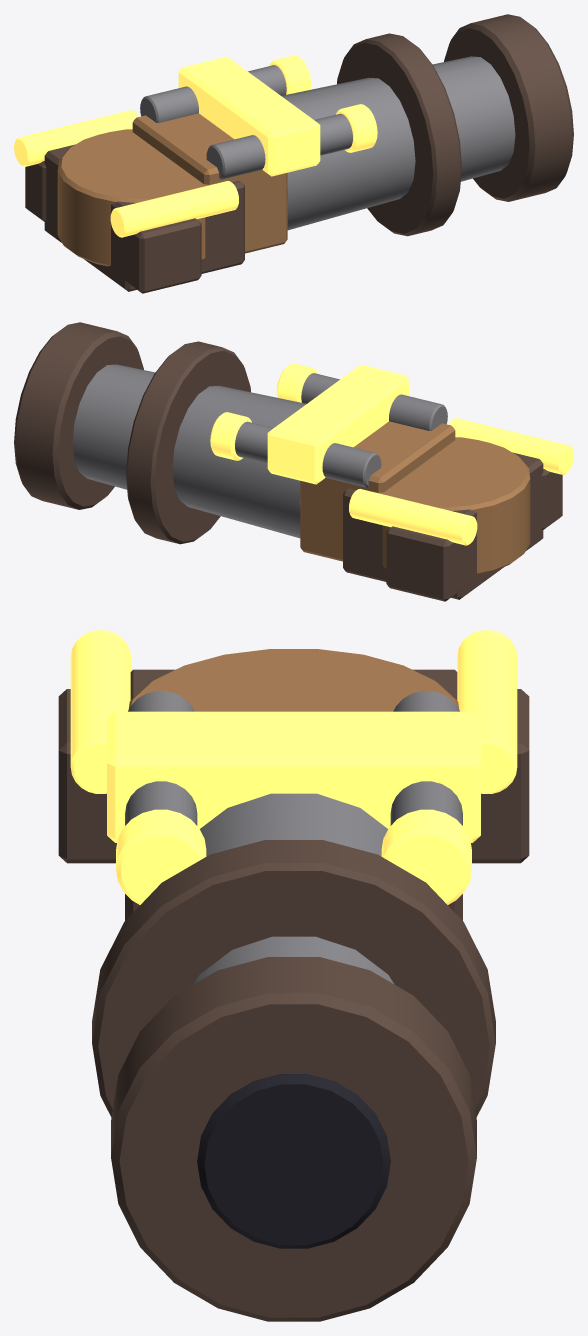
File: cannon_turret_l4.glb
The picture shows the model from 3 angles, top to bottom: view 1: azimuth 30°, elevation 25°; view 2: azimuth 150°, elevation 25°; view 3: azimuth 270°, elevation 25°; orthographic projection. The views are drawn at different scales.
Visible parts, largest first — view 1: Cone, Cylinder.001, Cylinder.013, Cylinder, Cube.004, Cube.001, Cube.002, Cube, Cylinder.003, Cylinder.005, Cylinder.007, Cylinder.010 (+7 smaller); view 2: Cone, Cylinder.001, Cylinder.013, Cylinder, Cube.004, Cube.001, Cube.003, Cube, Cylinder.005, Cylinder.003, Cylinder.010, Cylinder.007 (+7 smaller); view 3: Cylinder.001, Cylinder.013, Cube.004, Cylinder.002, Cylinder, Cone, Cylinder.004, Cylinder.006, Cube.002, Cube.003, Cylinder.009, Cylinder.012 (+7 smaller).
Part boxes in pixels (<box>): Cone: <box>281,56,515,230</box>; Cylinder.001: <box>444,14,573,201</box>; Cylinder.013: <box>337,33,461,236</box>; Cylinder: <box>57,129,212,266</box>; Cube.004: <box>178,56,320,176</box>; Cube.001: <box>132,113,287,253</box>; Cube.002: <box>122,218,201,293</box>; Cube: <box>44,144,244,291</box>; Cylinder.003: <box>206,113,352,179</box>; Cylinder.005: <box>140,65,286,122</box>; Cylinder.007: <box>110,195,180,237</box>; Cylinder.010: <box>14,125,83,166</box>; Cone: <box>72,364,306,538</box>; Cylinder.001: <box>14,322,143,509</box>; Cylinder.013: <box>126,341,250,544</box>; Cylinder: <box>375,437,530,574</box>; Cube.004: <box>267,364,409,484</box>; Cube.001: <box>300,421,455,561</box>; Cube.003: <box>386,526,465,601</box>; Cube: <box>343,452,543,599</box>; Cylinder.005: <box>235,421,381,487</box>; Cylinder.003: <box>301,373,447,430</box>; Cylinder.010: <box>407,503,477,545</box>; Cylinder.007: <box>504,432,573,474</box>; Cylinder.001: <box>111,957,476,1321</box>; Cylinder.013: <box>92,840,495,1117</box>; Cube.004: <box>107,711,480,842</box>; Cylinder.002: <box>197,1074,390,1248</box>; Cylinder: <box>128,649,459,711</box>; Cone: <box>193,793,394,984</box>; Cylinder.004: <box>116,809,206,904</box>; Cylinder.006: <box>381,809,471,904</box>; Cube.002: <box>58,689,116,863</box>; Cube.003: <box>471,689,529,863</box>; Cylinder.009: <box>70,686,128,793</box>; Cylinder.012: <box>458,686,517,793</box>.
Size of the model in its own units: 1.78 by 0.6622 by 0.78.
